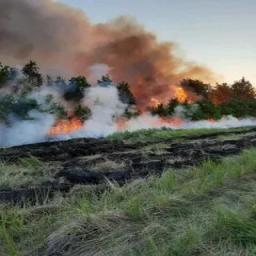Heavy smoke: (1, 0, 256, 153)
Medium fire: (42, 62, 239, 143)
